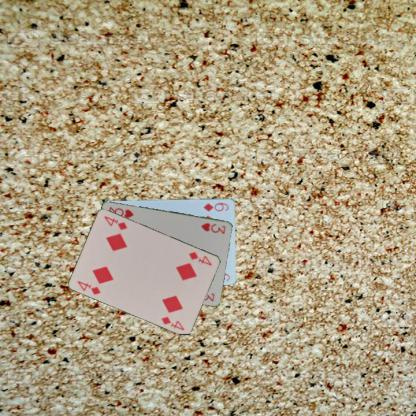3h: (198, 220, 227, 235)
4d: (186, 249, 213, 267), (75, 278, 102, 296)
6d: (201, 200, 230, 213)
